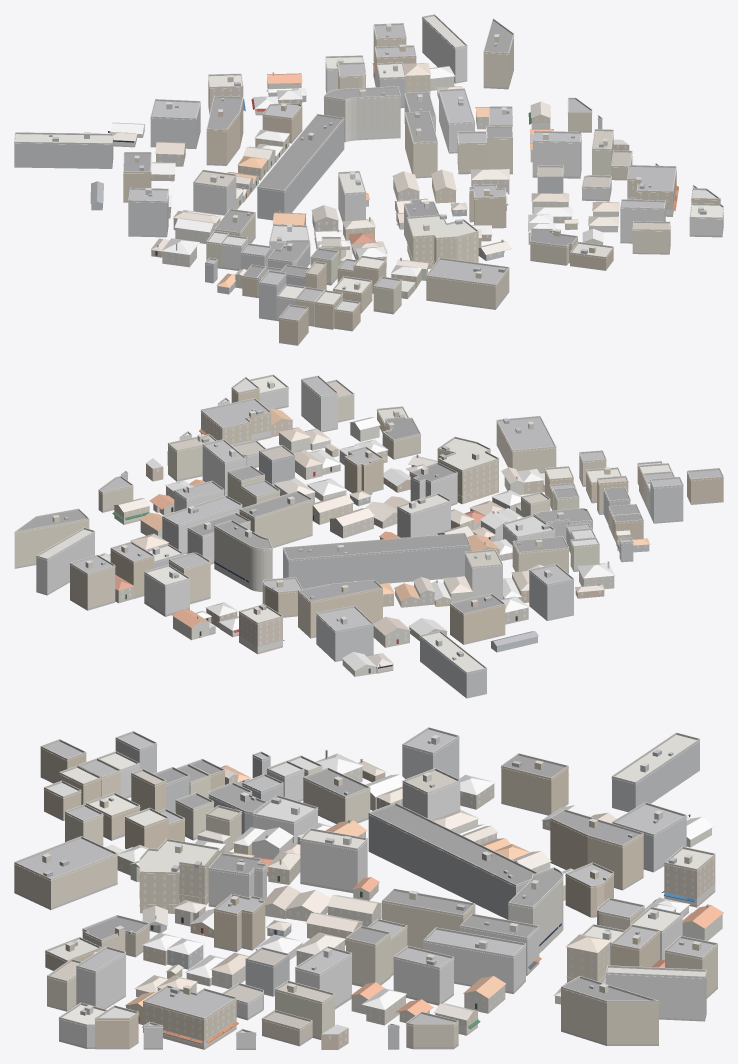
The model's file is bld_1_-1.dae.
The picture shows the model from 3 angles, top to bottom: view 1: azimuth 30°, elevation 25°; view 2: azimuth 150°, elevation 25°; view 3: azimuth 270°, elevation 25°; orthographic projection. The views are drawn at different scales.
Parts seen in each view (by area): view 1: blda1990; view 2: blda1990; view 3: blda1990.
Part boxes in pixels (bbox=[...]): blda1990: bbox=[14, 14, 723, 345]; blda1990: bbox=[14, 374, 723, 698]; blda1990: bbox=[14, 727, 723, 1049].
Bounding box in the file's own units: 267 × 280 × 26.09.
